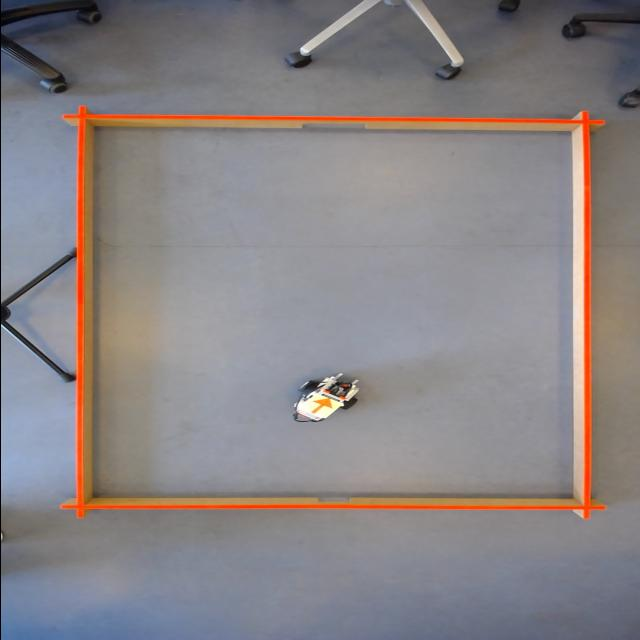robot: (294, 393, 345, 420)
